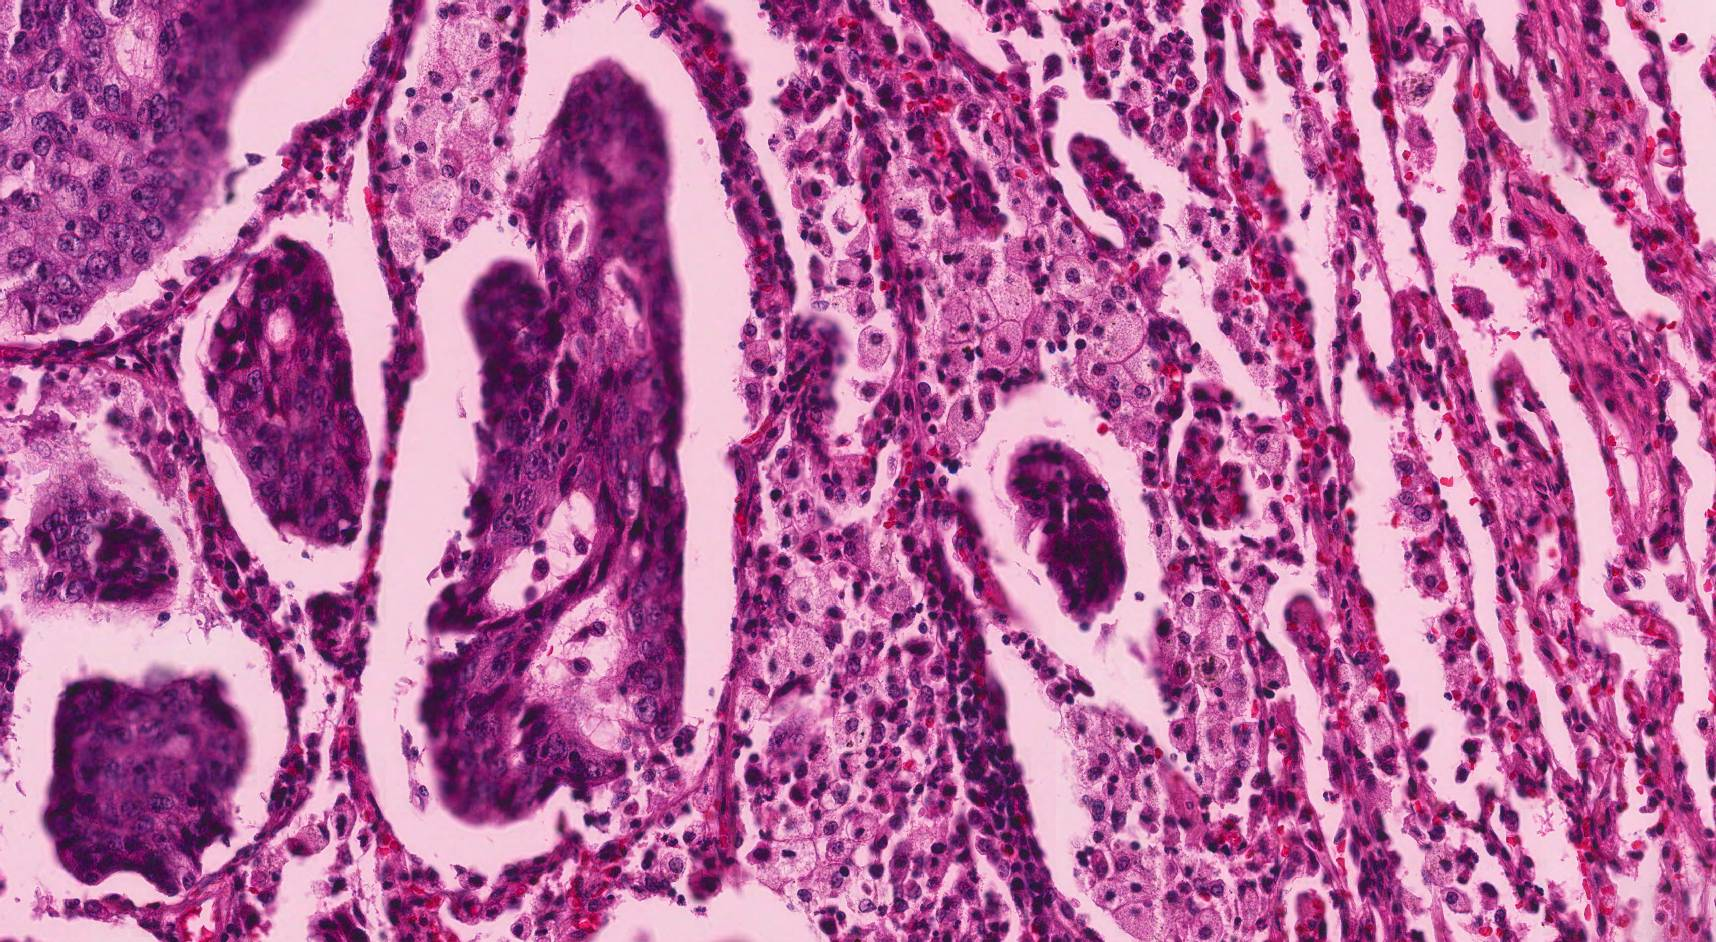stas: (421, 57, 689, 832), (205, 235, 366, 548), (44, 671, 251, 896), (23, 457, 179, 610), (1005, 435, 1127, 628)
